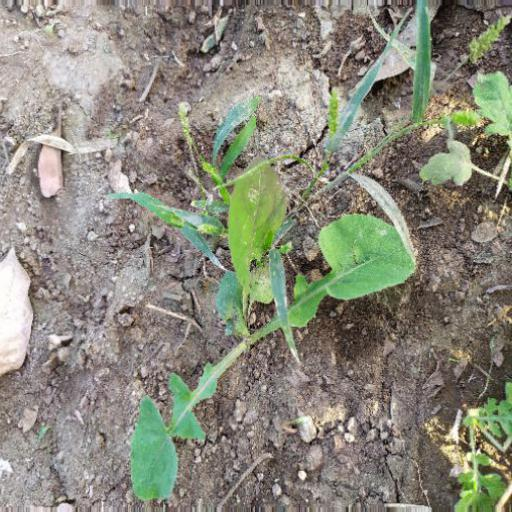weed: (97, 137, 421, 498)
